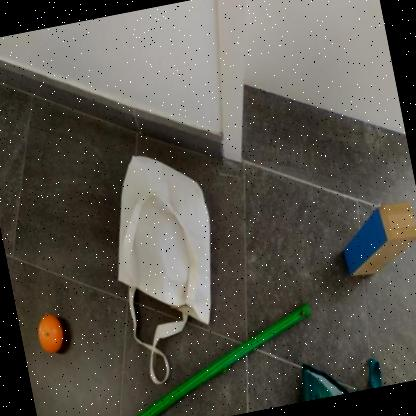bag: (75, 136, 246, 400)
